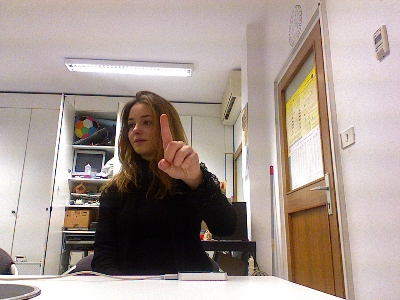食指: (157, 111, 202, 181)
